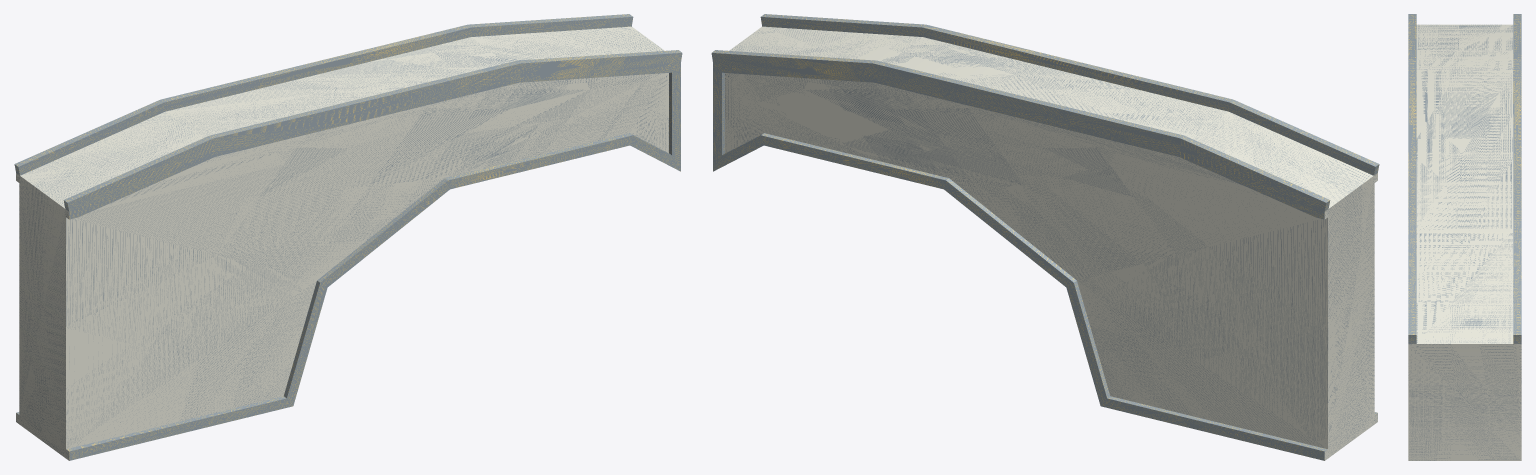
The model's file is Castle_Bridge_Large_01.fbx.
3 views of the same model, side by side, from view 1: azimuth 30°, elevation 25°; view 2: azimuth 150°, elevation 25°; view 3: azimuth 270°, elevation 25° (orthographic). The views are drawn at different scales.
Visible parts, largest first — view 1: Model; view 2: Model; view 3: Model.
Boxes of the visible parts, x1,y1,x2,y2 form: Model: (14, 14, 682, 460); Model: (711, 14, 1379, 460); Model: (1408, 14, 1521, 460).
Bounding box in the file's own units: 3405 × 1520 × 509.
